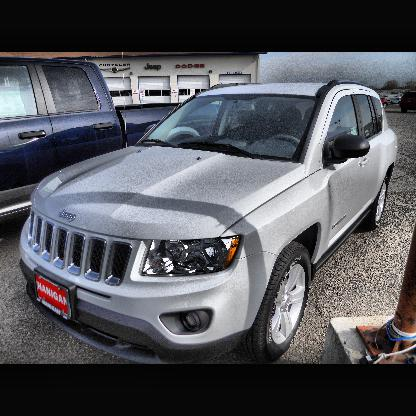Jeep Compass SUV 2012: (20, 81, 399, 356)
